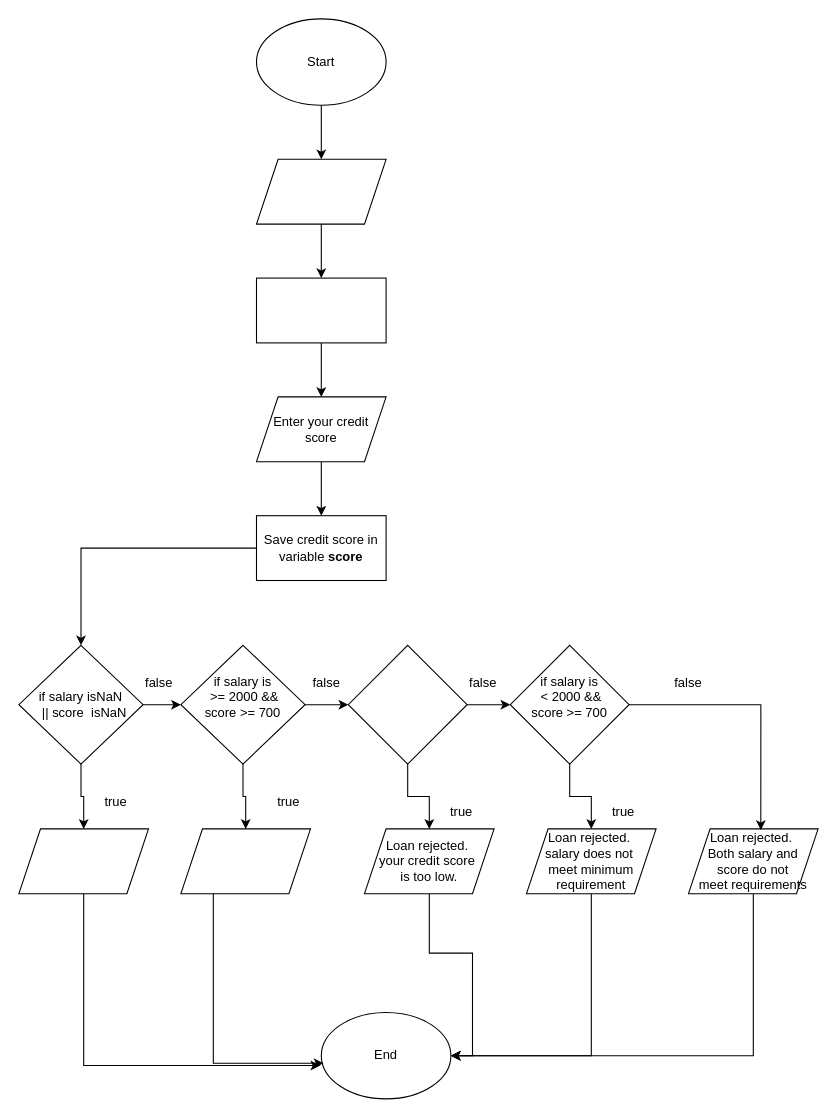
Image size: 837x1118. Some labels were removed from this diagram. Here are the shapes that lost their labels. From the top down, the centre of each, then its label:
At point 320,191: "Enter your salary".
At point 320,310: "Save salary in variable salary".
At point 407,704: "if salary is >= 2000 && score <700".
At point 83,861: "Invalid input. please enter numeric values".
At point 245,861: "Loan approved".
